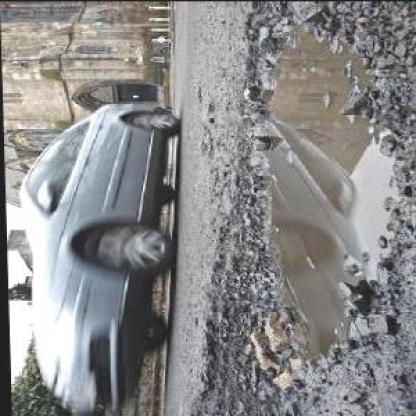pothole: (218, 5, 406, 374)
